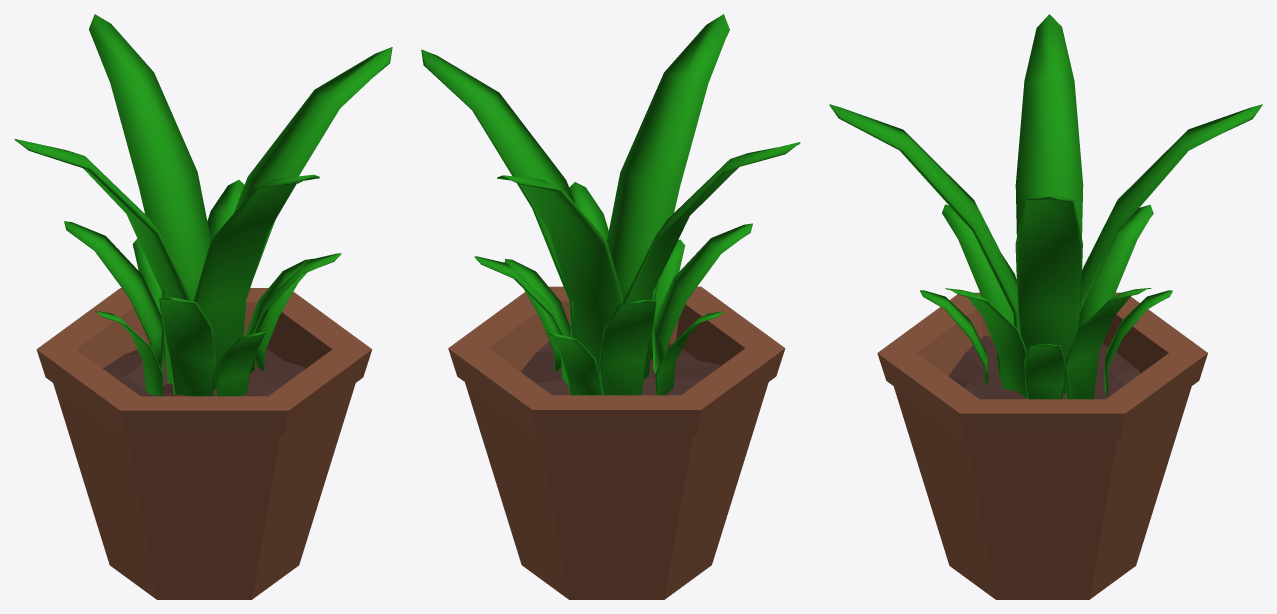
The model's file is Plant 1.fbx.
3 views of the same model, side by side, from view 1: azimuth 30°, elevation 25°; view 2: azimuth 150°, elevation 25°; view 3: azimuth 270°, elevation 25° (orthographic).
Visible parts, largest first — view 1: Plant 1; view 2: Plant 1; view 3: Plant 1.
Boxes of the visible parts, <box> form: Plant 1: <box>14,14,392,599</box>; Plant 1: <box>421,14,800,599</box>; Plant 1: <box>829,14,1262,599</box>.
Size of the model in its own units: 89.98 by 90.73 by 107.
